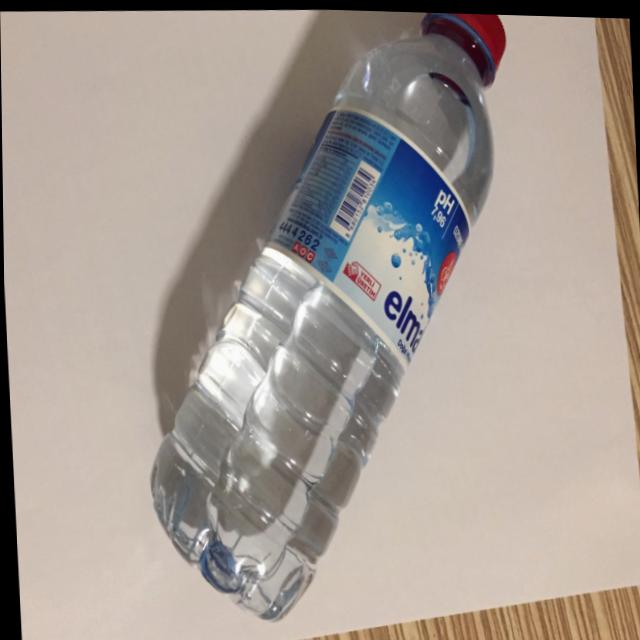anorganik: (125, 3, 547, 629)
